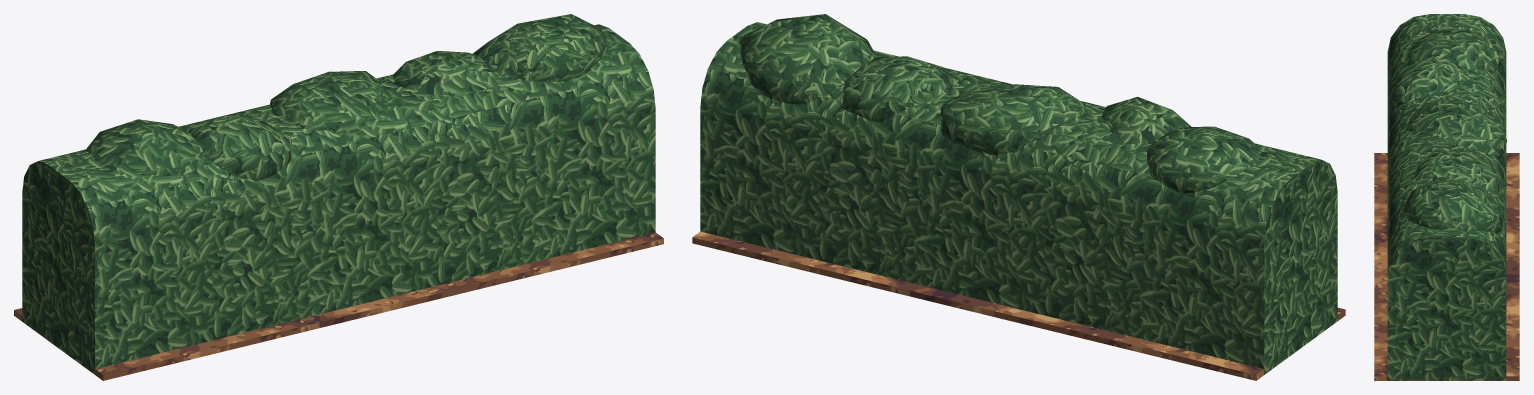
File: hedge_straight.glb
3 views of the same model, side by side, from view 1: azimuth 30°, elevation 25°; view 2: azimuth 150°, elevation 25°; view 3: azimuth 270°, elevation 25° (orthographic). The views are drawn at different scales.
Parts seen in each view (by area): view 1: Hedge; view 2: Hedge; view 3: Hedge.
Part boxes in pixels (x1,y1,x2,y2): Hedge: (14, 14, 663, 380); Hedge: (692, 14, 1345, 380); Hedge: (1374, 14, 1519, 380).
Bounding box in the file's own units: 4 × 1.38 × 1.1.
Materials: 2 (2 with a texture image).
